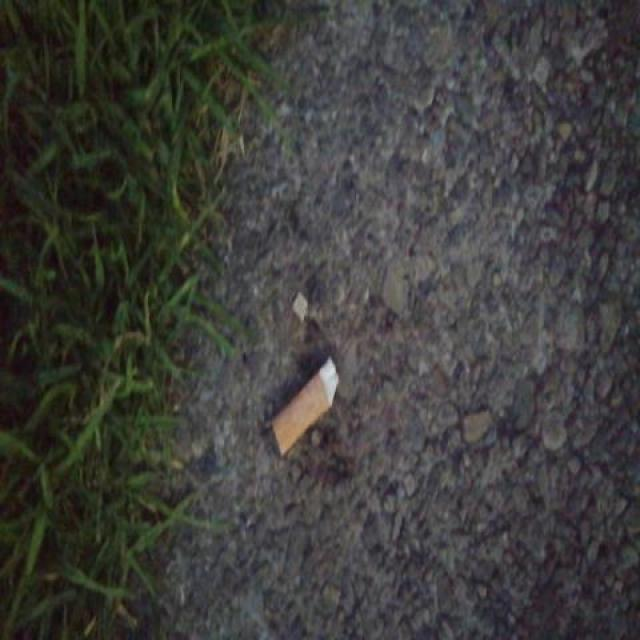non-organic waste: (265, 353, 343, 462)
